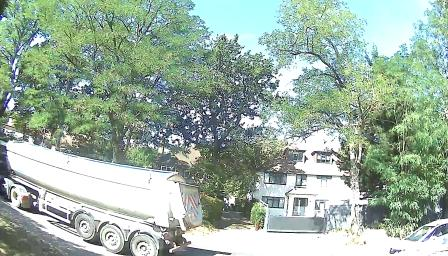truck: (2, 131, 208, 256)
